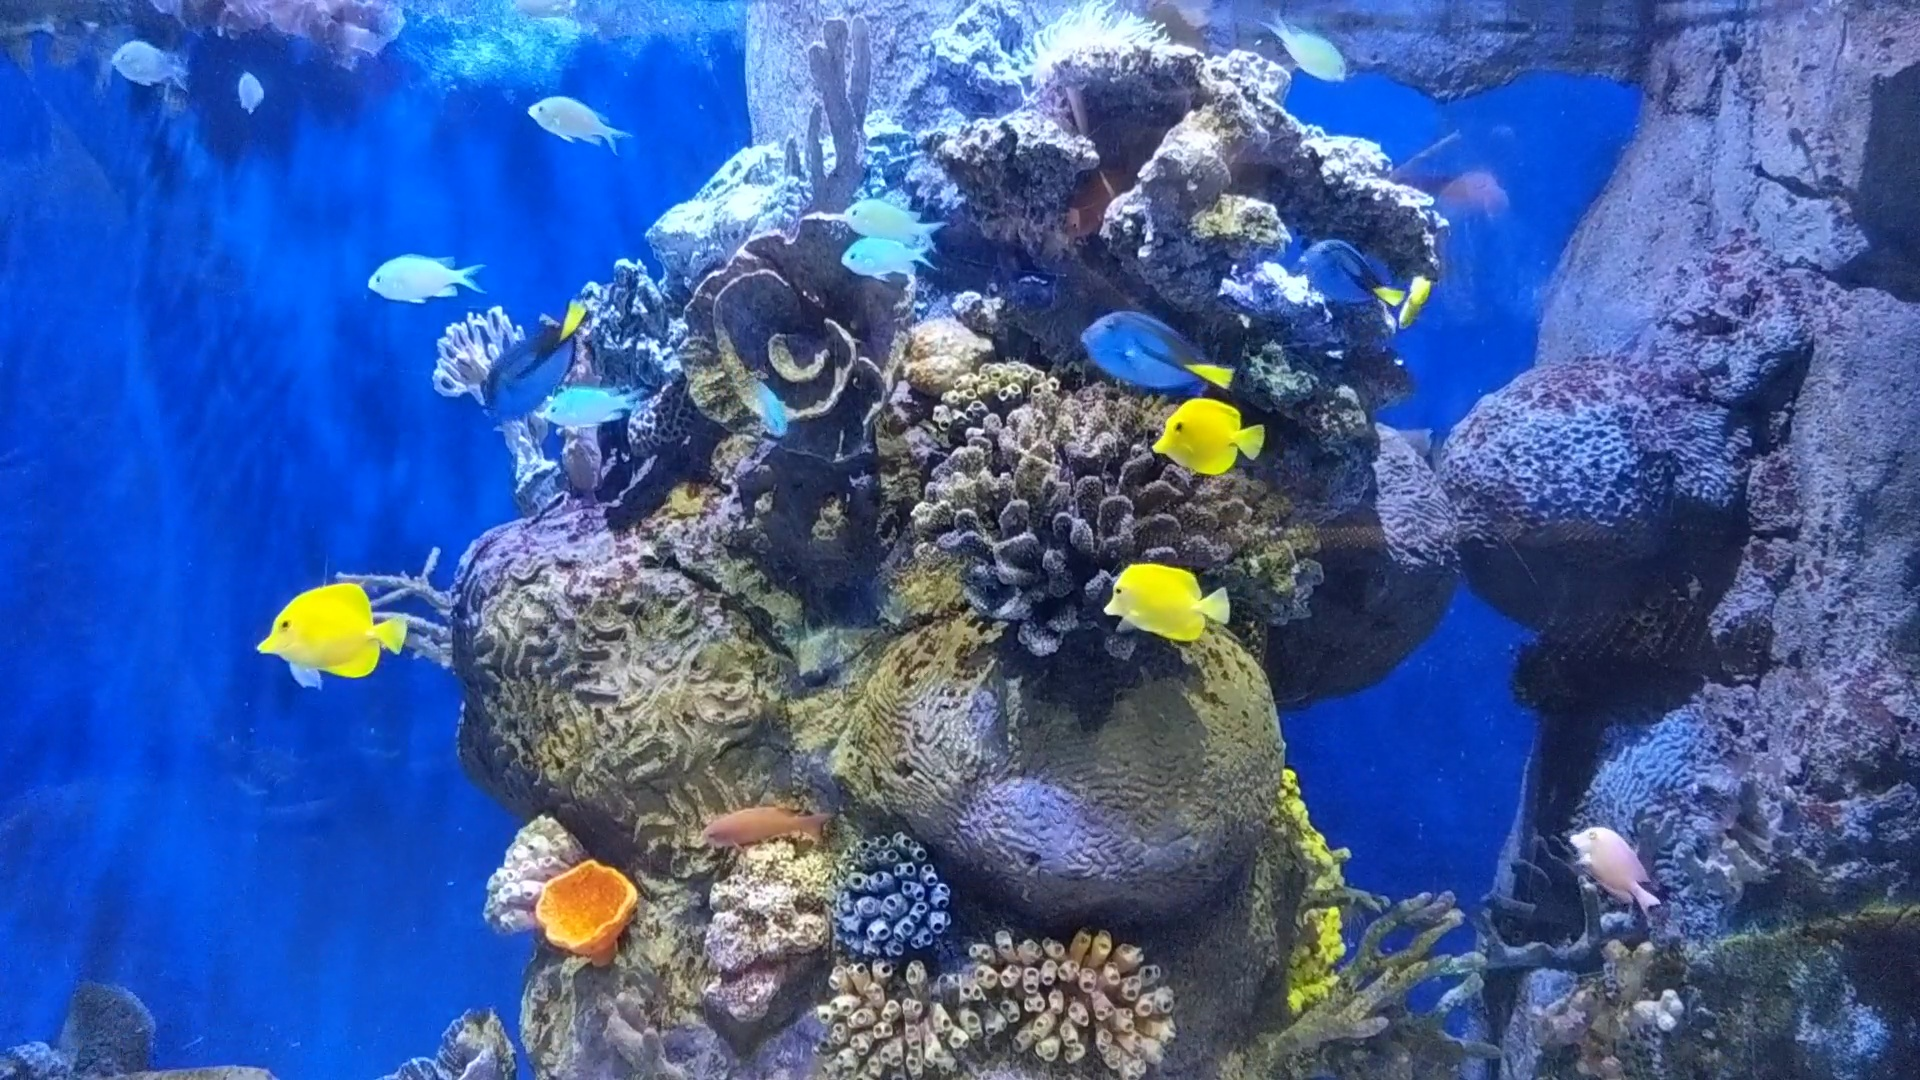blue tang surgeonfish: (1075, 313, 1238, 406), (473, 301, 593, 425), (1292, 227, 1404, 314)
damselfish: (352, 233, 488, 313), (516, 91, 642, 164), (1262, 11, 1354, 91), (837, 189, 943, 251), (91, 29, 190, 95), (831, 233, 945, 286), (535, 371, 644, 426), (737, 375, 795, 434), (225, 67, 270, 113)
pink fish: (1548, 796, 1677, 920)
saddle butterfly fish: (229, 572, 422, 694), (1098, 546, 1238, 644), (1147, 390, 1270, 480)
